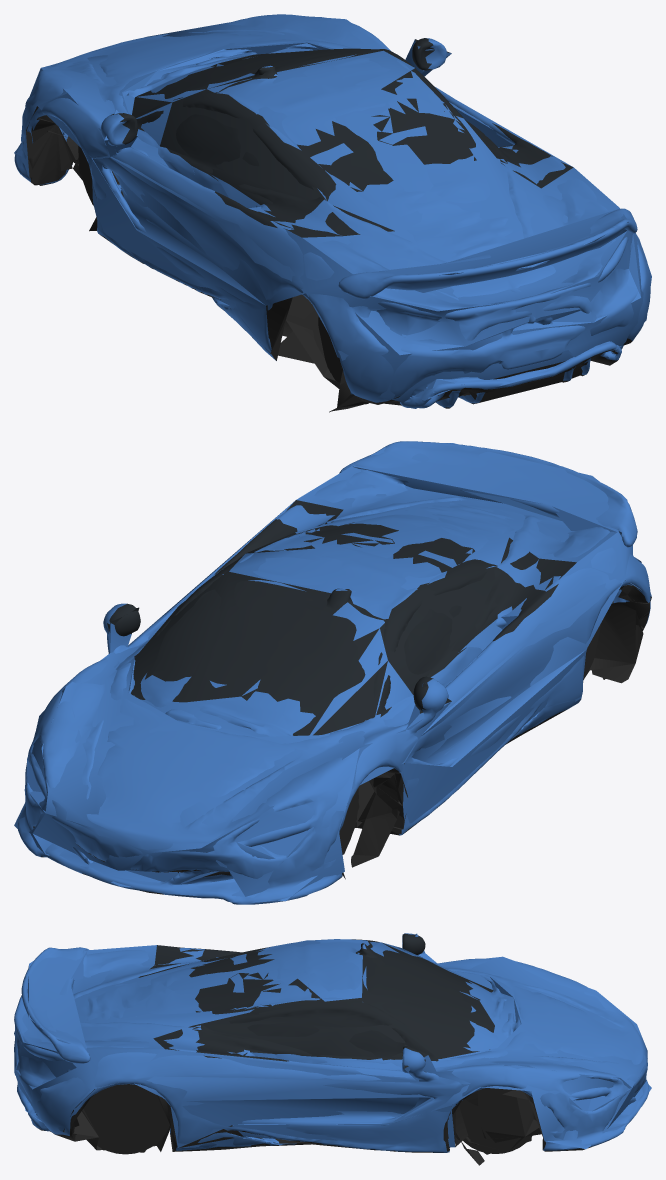
The model's file is mclaren-720s-coupe.glb.
3 renders of one model, top to bottom at view 1: azimuth 30°, elevation 25°; view 2: azimuth 150°, elevation 25°; view 3: azimuth 270°, elevation 25°, orthographic. The views are drawn at different scales.
Visible parts, largest first — view 1: body, far; view 2: body, far; view 3: body, far.
Boxes of the visible parts, <box> form: body: <box>14,14,650,412</box>; far: <box>14,16,651,409</box>; body: <box>18,441,650,904</box>; far: <box>14,443,651,901</box>; body: <box>14,933,648,1165</box>; far: <box>15,933,651,1154</box>.
Size of the model in its own units: 2.2 by 1.24 by 4.57.
